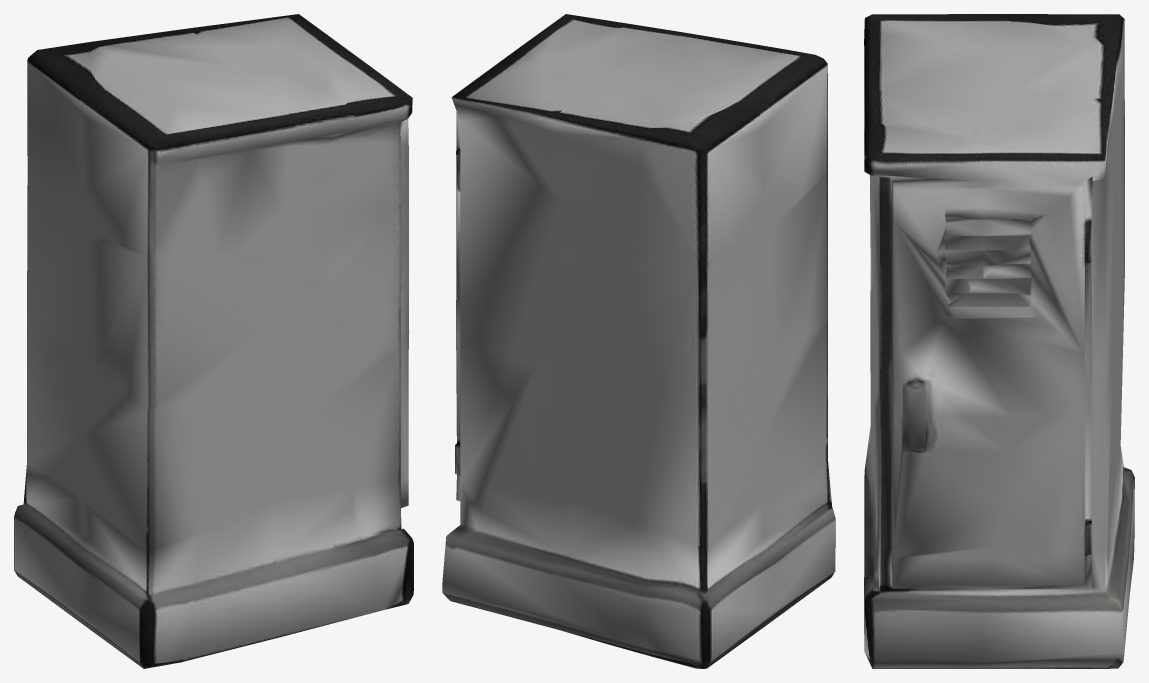
Rendered from locker.glb.
The picture shows the model from 3 angles, left to right: view 1: azimuth 30°, elevation 25°; view 2: azimuth 150°, elevation 25°; view 3: azimuth 270°, elevation 25°; orthographic projection. The views are drawn at different scales.
Parts seen in each view (by area): view 1: tripo_node_caf5e90f-8555-450a-940e-1e70fa3e81c9; view 2: tripo_node_caf5e90f-8555-450a-940e-1e70fa3e81c9; view 3: tripo_node_caf5e90f-8555-450a-940e-1e70fa3e81c9.
Boxes of the visible parts, x1,y1,x2,y2 form: tripo_node_caf5e90f-8555-450a-940e-1e70fa3e81c9: (14, 14, 413, 668); tripo_node_caf5e90f-8555-450a-940e-1e70fa3e81c9: (442, 14, 835, 668); tripo_node_caf5e90f-8555-450a-940e-1e70fa3e81c9: (864, 14, 1134, 668).
Bounding box in the file's own units: 0.5717 × 0.9999 × 0.4586.
Materials: 1 (1 with a texture image).
